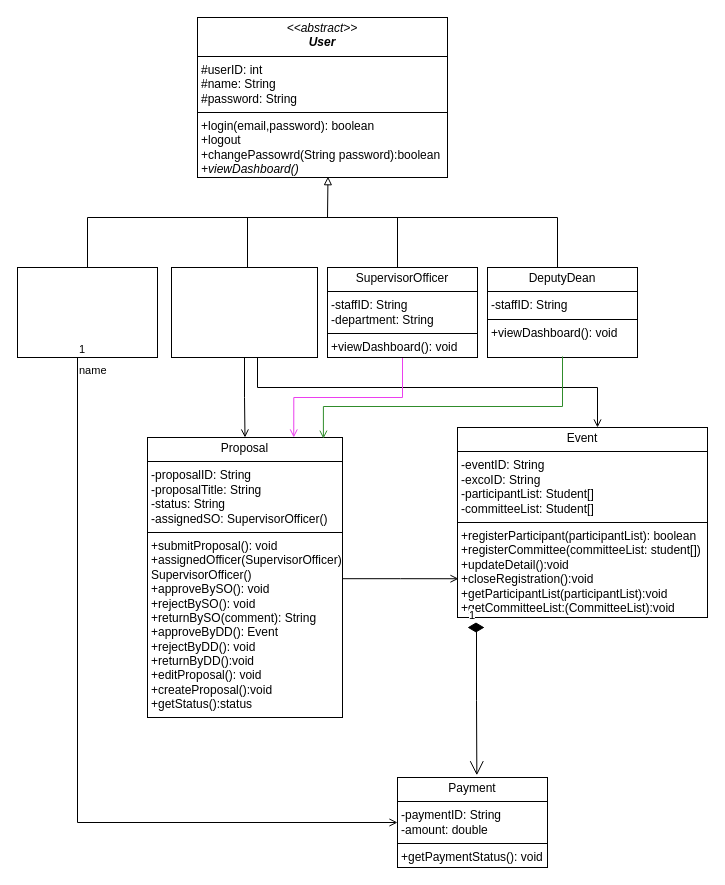
This 725x885 diagram has some shape labels left out. The shapes that lost their labels are listed below. From the top down, each one's box as (x1, y1, x2, y2) in pixels, then its label:
(16, 266, 158, 358): Student -matricID: String +viewDashboard(): void +browseEvent(): void
(170, 266, 318, 358): EventOrganizer -excoID: String +viewDashboard(): void
